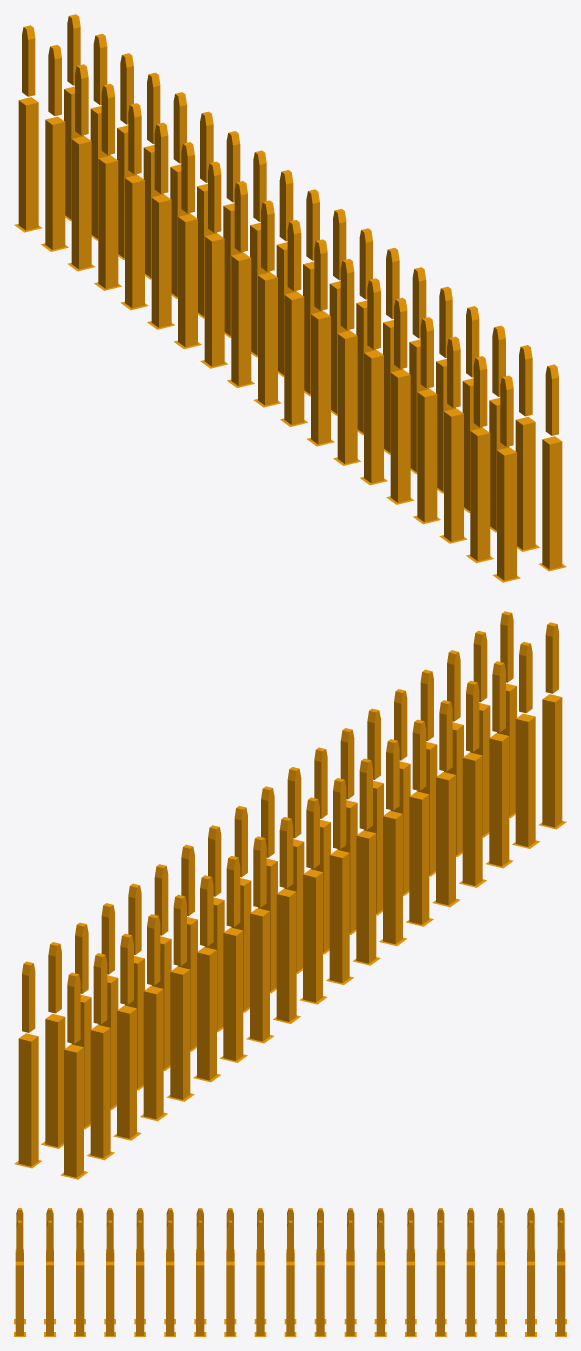
The model's file is zatana_terra_base_vis_2.dae.
The picture shows the model from 3 angles, top to bottom: view 1: azimuth 30°, elevation 25°; view 2: azimuth 150°, elevation 25°; view 3: azimuth 270°, elevation 25°; orthographic projection. The views are drawn at different scales.
Parts seen in each view (by area): view 1: Node_000002318374BEC0; view 2: Node_000002318374BEC0; view 3: Node_000002318374BEC0.
Boxes of the visible parts, left/top/right/bottom form: Node_000002318374BEC0: left=14, top=14, right=566, bottom=582; Node_000002318374BEC0: left=14, top=611, right=566, bottom=1179; Node_000002318374BEC0: left=14, top=1208, right=566, bottom=1336.
Bounding box in the file's own units: 0.00354 × 0.0105 × 0.0467.
